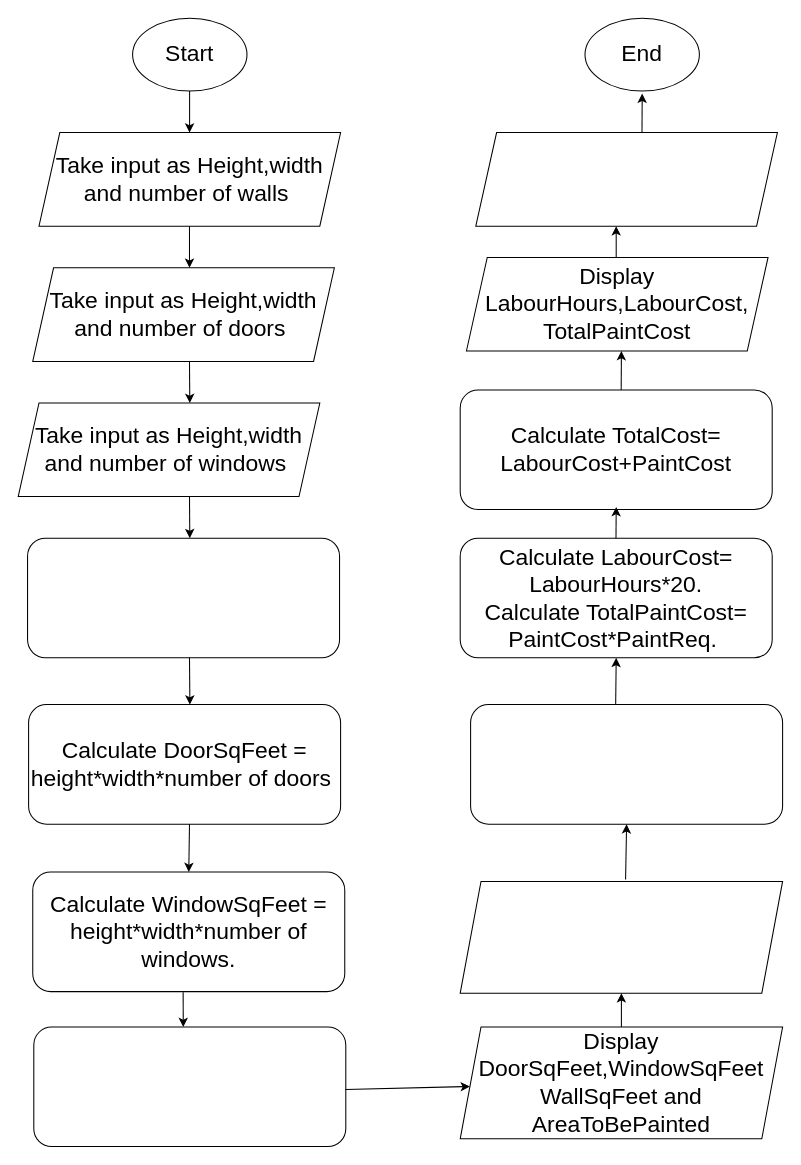
This 801x1165 diagram has some shape labels left out. Each missing label, with the centre of its shape:
"Calculate AreaToBePainted = WallSqFeet-WindowsqFeet-DoorSqFeet" belongs at pixel 189 1086.
"Calculate PaintReq=(AreaToBePainted/300) LabourHours=PaintReq*8." belongs at pixel 626 764.
"Calculate WallSqFeet = height*width*number of walls" belongs at pixel 183 597.
"Display PaintReq,PaintCost And TotalCost." belongs at pixel 626 179.
"Take Input as PaintCost" belongs at pixel 621 936.
